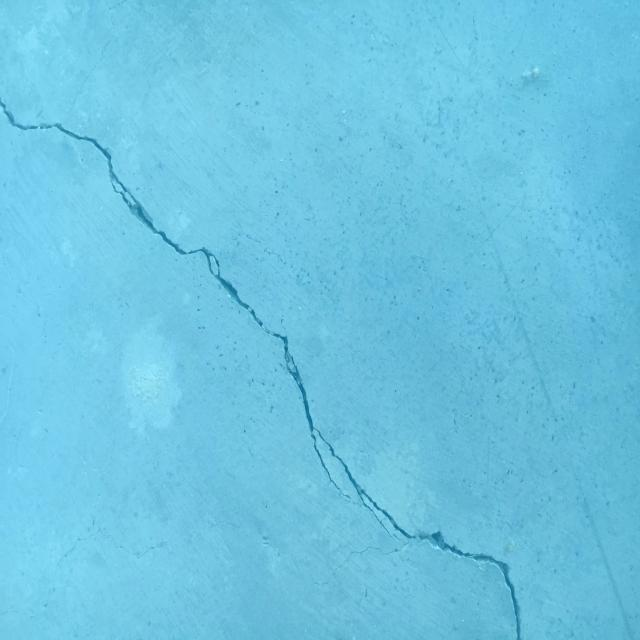crack: (0, 98, 523, 640), (207, 520, 241, 530)
